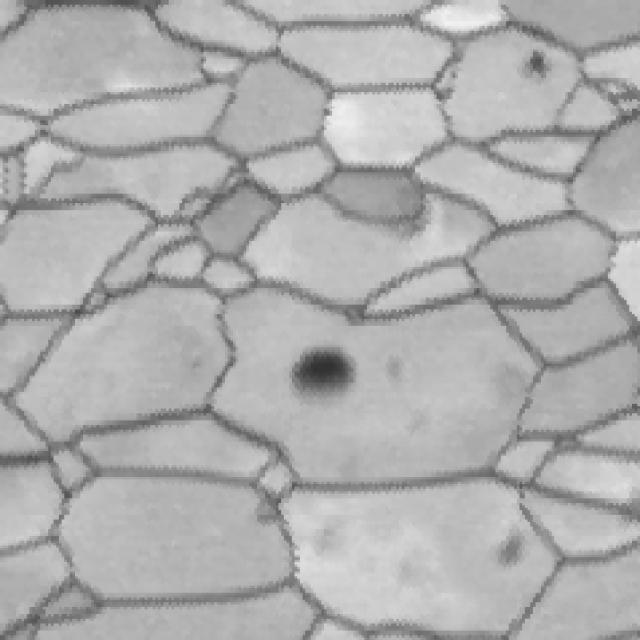good_void: (274, 343, 363, 413), (509, 44, 561, 86), (492, 524, 528, 572), (379, 347, 406, 388), (307, 102, 343, 124), (429, 83, 459, 109)
